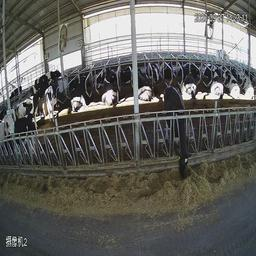cow: (158, 85, 196, 197), (5, 109, 43, 168), (40, 73, 65, 131), (67, 75, 93, 114), (203, 61, 228, 101), (134, 66, 155, 107), (99, 73, 125, 106), (177, 62, 201, 96), (223, 61, 242, 103), (237, 59, 253, 102)
